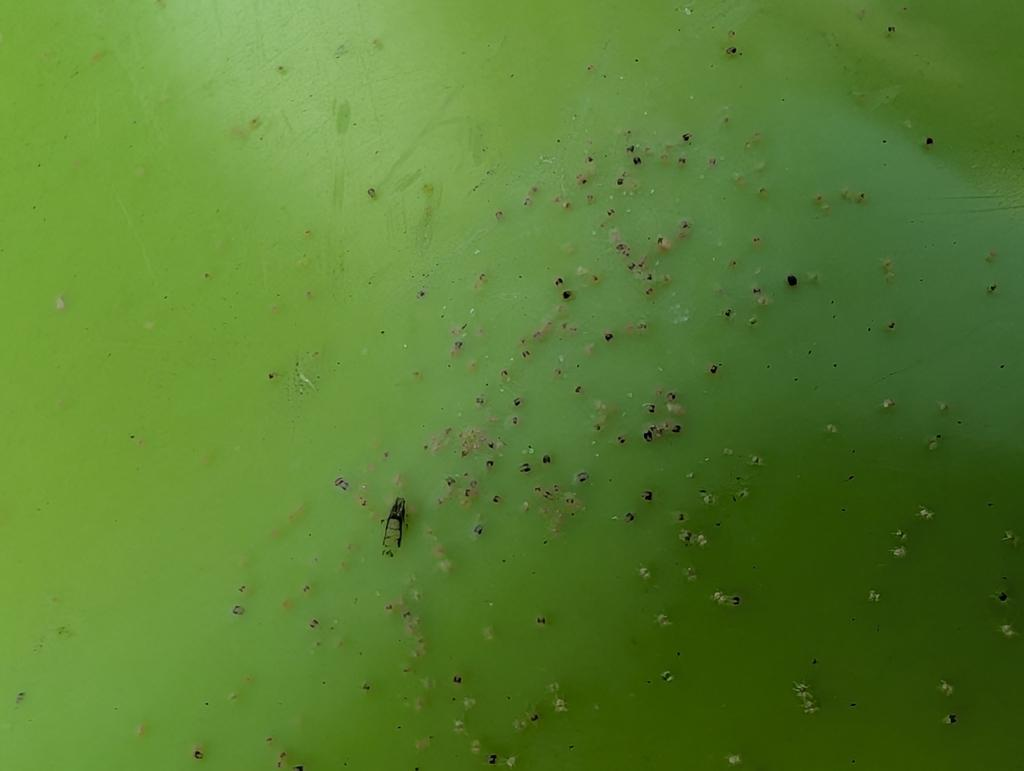tiny_pests: (418, 408, 542, 551), (596, 217, 708, 316), (577, 116, 702, 199), (633, 382, 692, 449)
